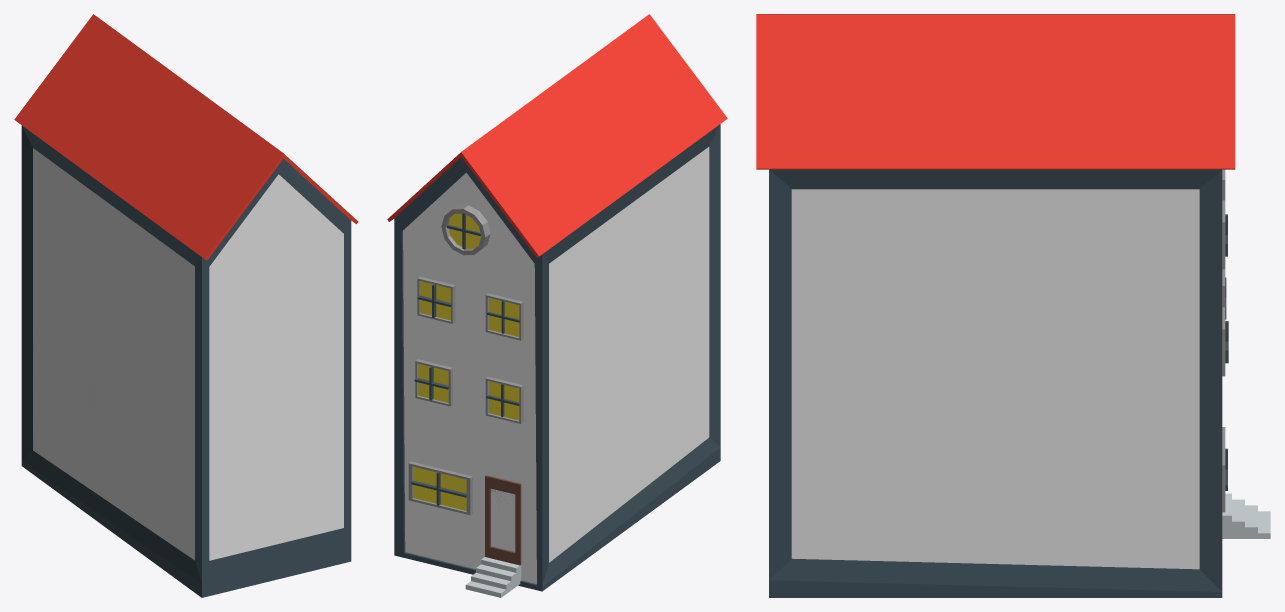
Rendered from townhouse.glb.
The picture shows the model from 3 angles, left to right: view 1: azimuth 30°, elevation 25°; view 2: azimuth 150°, elevation 25°; view 3: azimuth 270°, elevation 25°; orthographic projection. The views are drawn at different scales.
Visible parts, largest first — view 1: group1776573716; view 2: group1776573716, group1070070552, group1580957154, group1107311234, group65213238, group1990742137, group700178643, group1799446425, group328106354; view 3: group1776573716, group65213238.
Boxes of the visible parts, x1,y1,x2,y2 form: group1776573716: [14, 14, 358, 597]; group1776573716: [387, 14, 727, 591]; group1070070552: [408, 461, 472, 515]; group1580957154: [485, 475, 521, 565]; group1107311234: [441, 205, 490, 255]; group65213238: [465, 557, 521, 597]; group1990742137: [485, 293, 523, 340]; group700178643: [417, 276, 455, 323]; group1799446425: [485, 376, 523, 423]; group328106354: [414, 359, 452, 406]; group1776573716: [756, 14, 1235, 597]; group65213238: [1222, 493, 1270, 538].
Size of the model in its own units: 0.6899 by 1.84 by 1.59.
